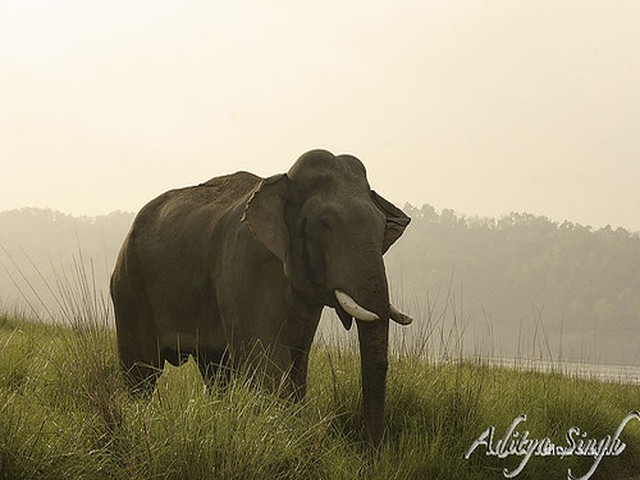Elephant: (101, 142, 418, 443)
